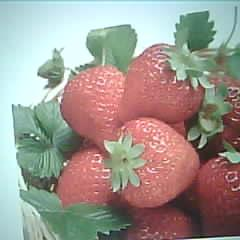straw-ripe: (112, 118, 200, 208), (121, 43, 201, 120)
